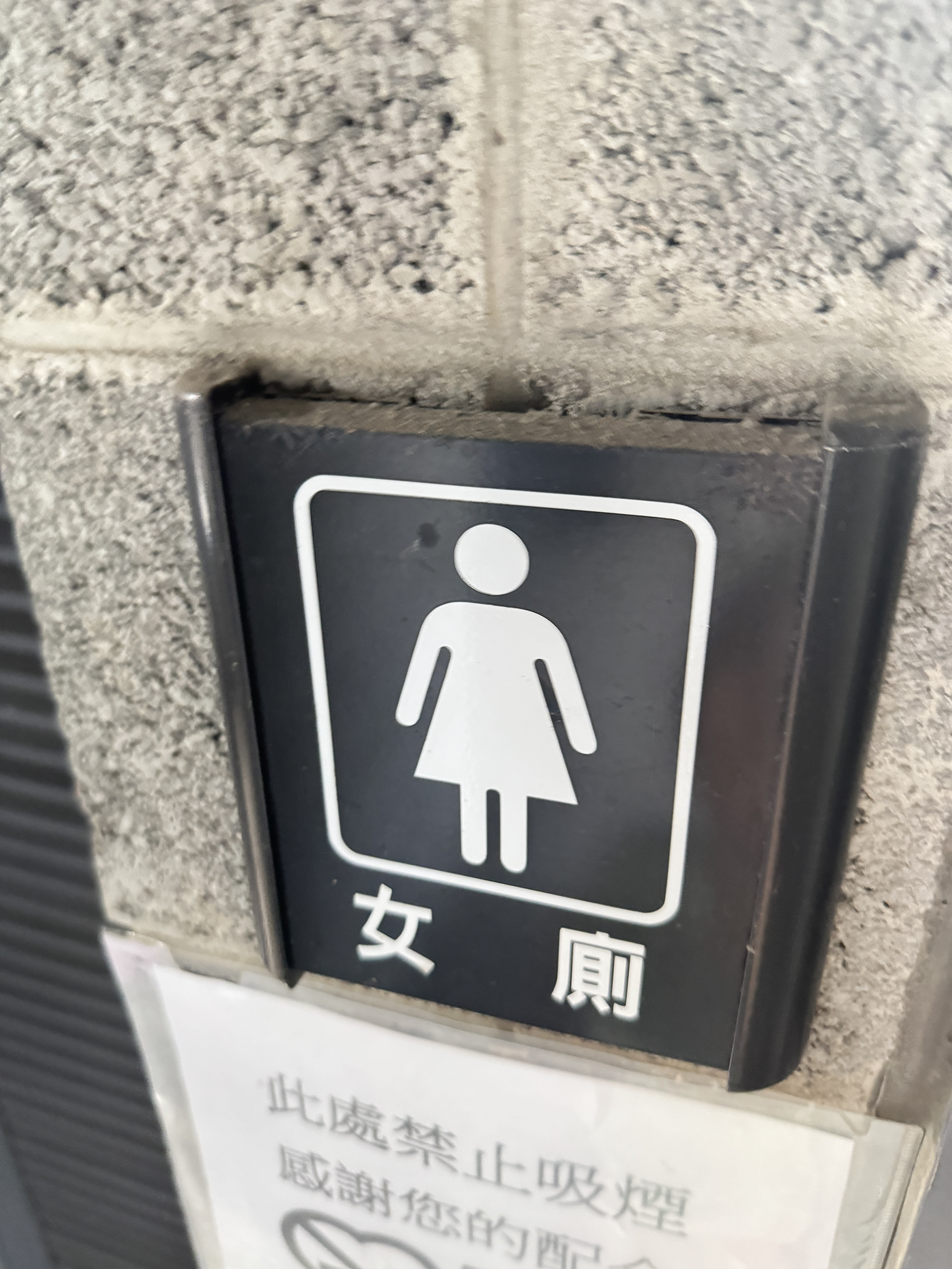toilet_sign: (152, 348, 937, 1101), (154, 361, 908, 1086)
